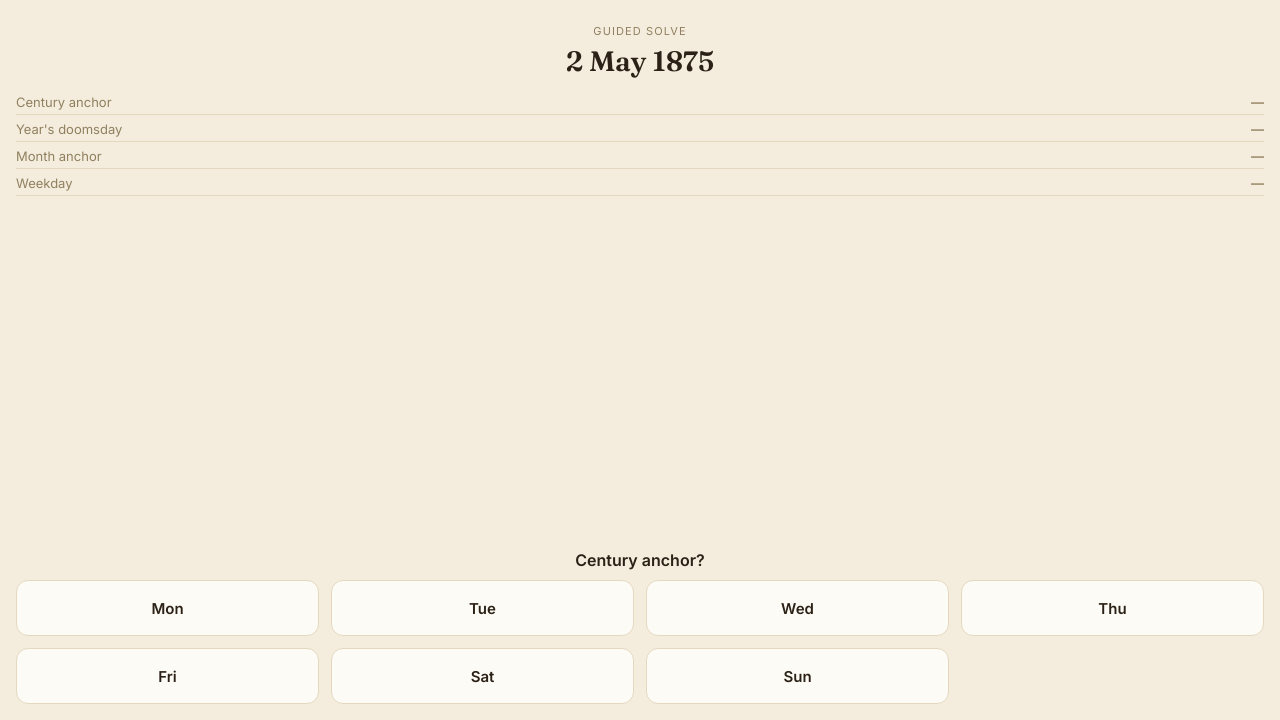
Test: GuidedSolve › captures four steps (incl. the month anchor) and grades correctly
Click the button with aria-label "Friday": [168, 676] box [16,648,319,704]
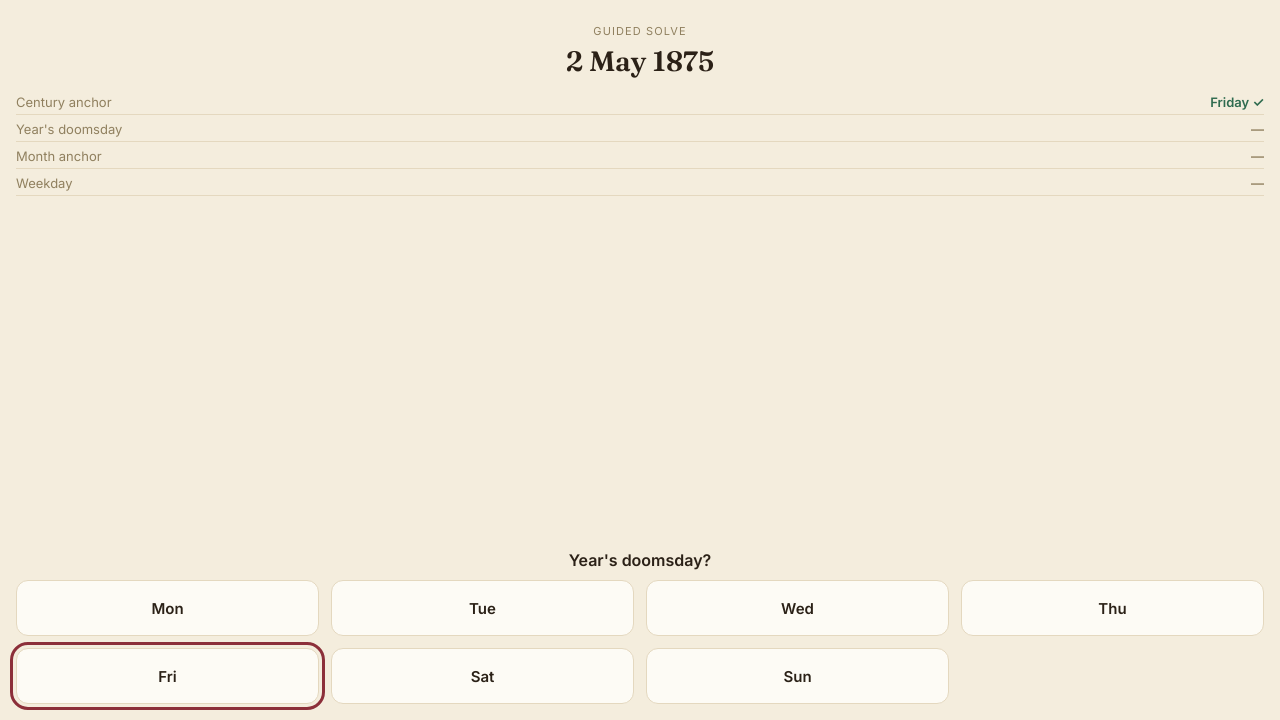
Click the button with aria-label "Sunday": [798, 676] box [646,648,949,704]
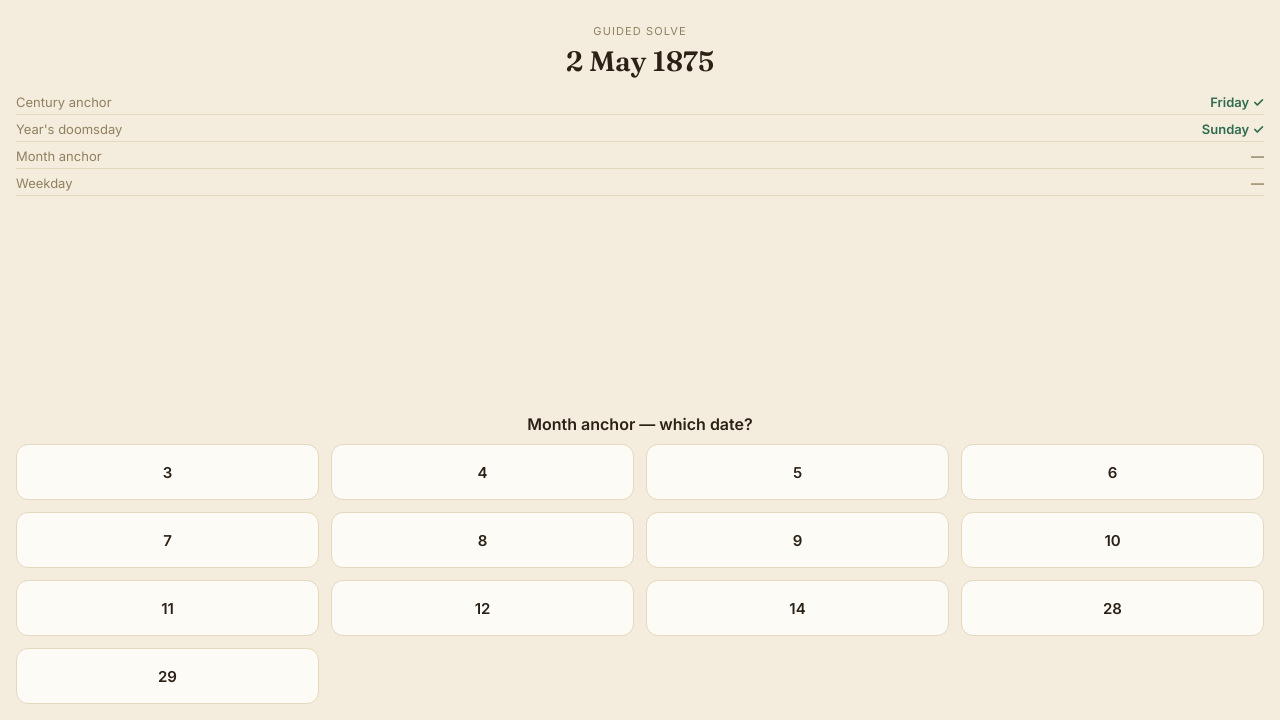
Check: the text "Month anchor — which date?" is shown, box [527,414,753,434]
Click the button "9": [798, 540] box [646,512,949,568]
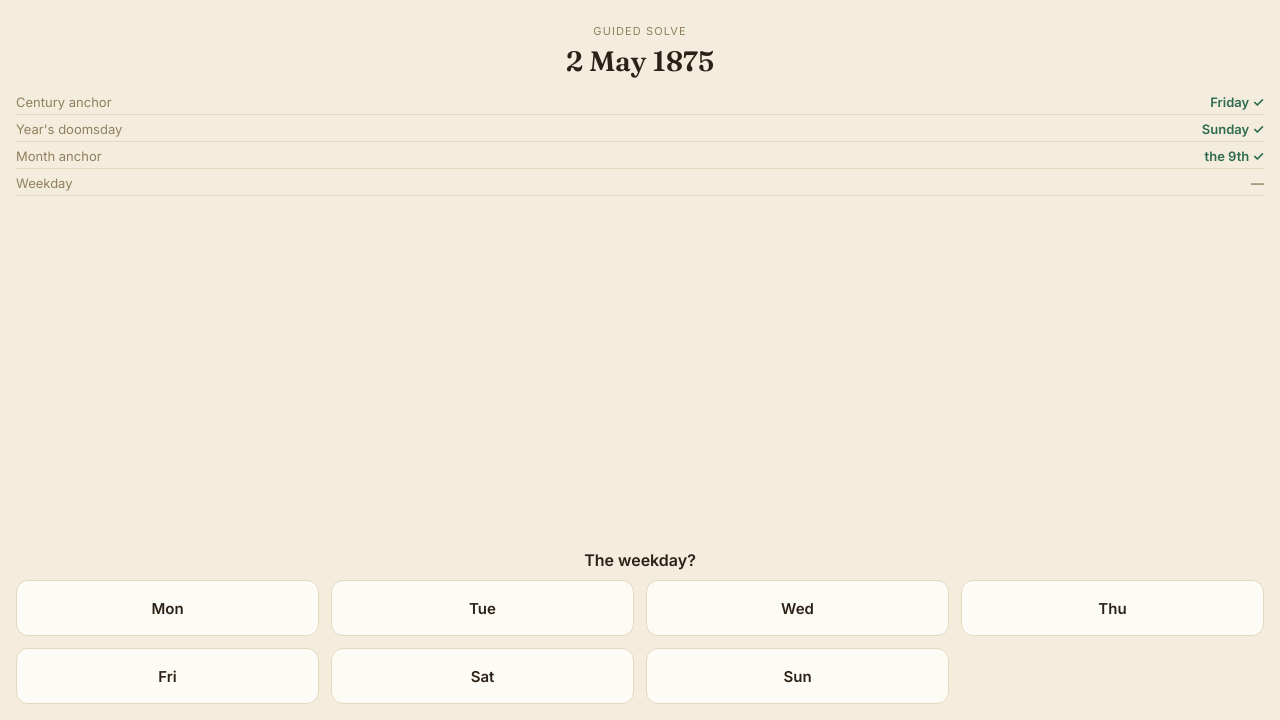
Click the button with aria-label "Sunday": [798, 676] box [646,648,949,704]
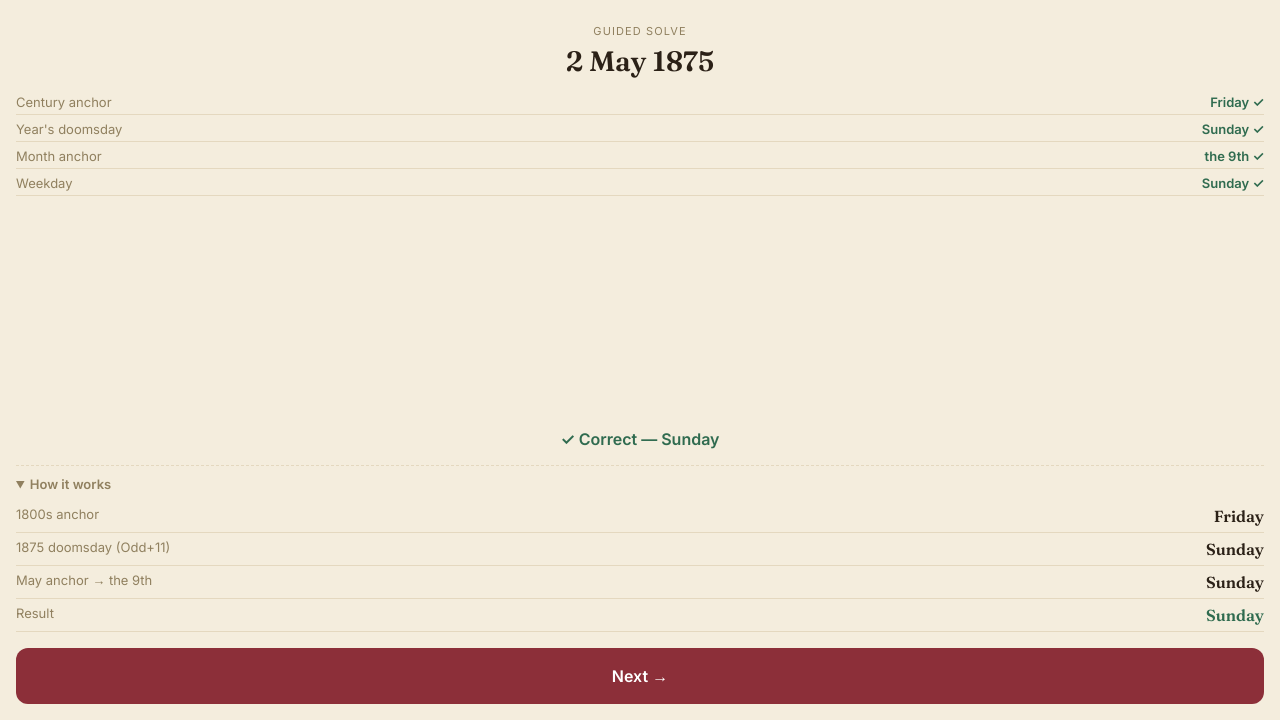
Check: the message shows "Correct", box [560,429,720,449]
Check: the heading "How it works" is shown, box [30,476,111,492]
